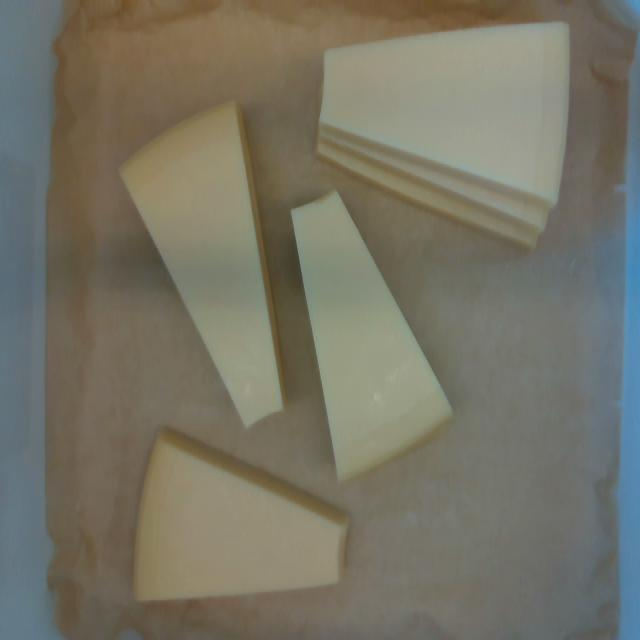Cheese: (123, 104, 281, 425), (292, 193, 451, 479), (318, 23, 568, 201), (135, 435, 347, 600)
